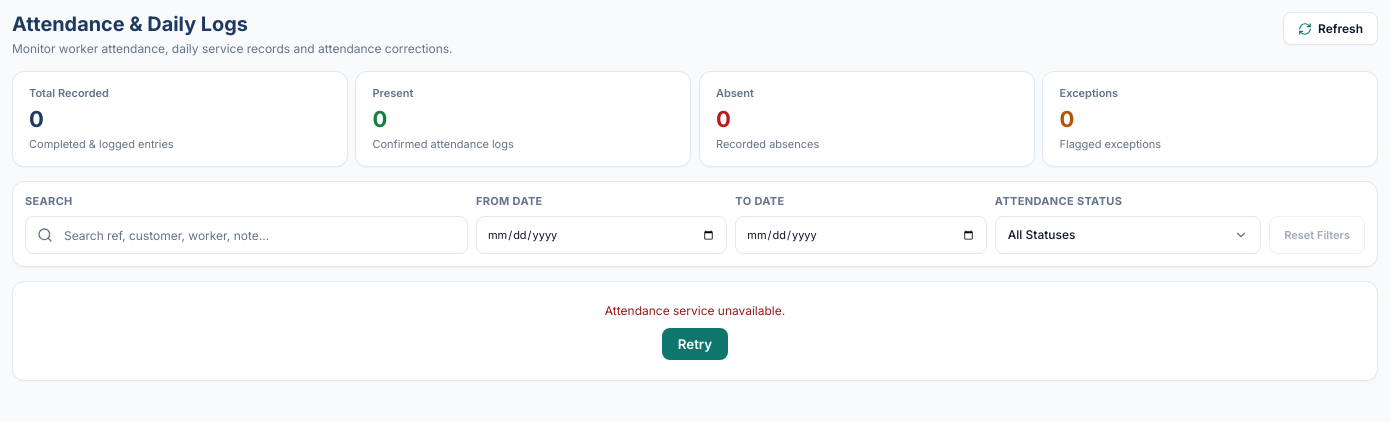
Test: Attendance & Daily Logs — Redesigned Attendance-First View & Backend Completeness Audit › surfaces API load failure cleanly with Retry button
Expected: the text "Attendance service unavailable." is shown, top-left (605, 303), bottom-right (785, 318)
Click the button "Retry". click: (695, 344)
box: top-left (662, 328), bottom-right (728, 360)
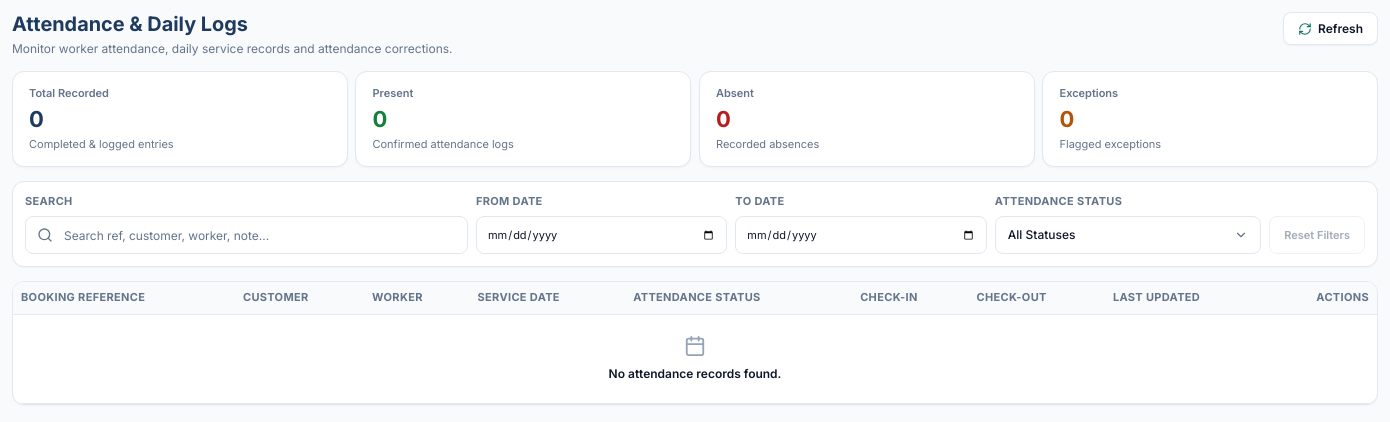
Expected: the text "No attendance records found." is shown, top-left (609, 365), bottom-right (781, 383)
